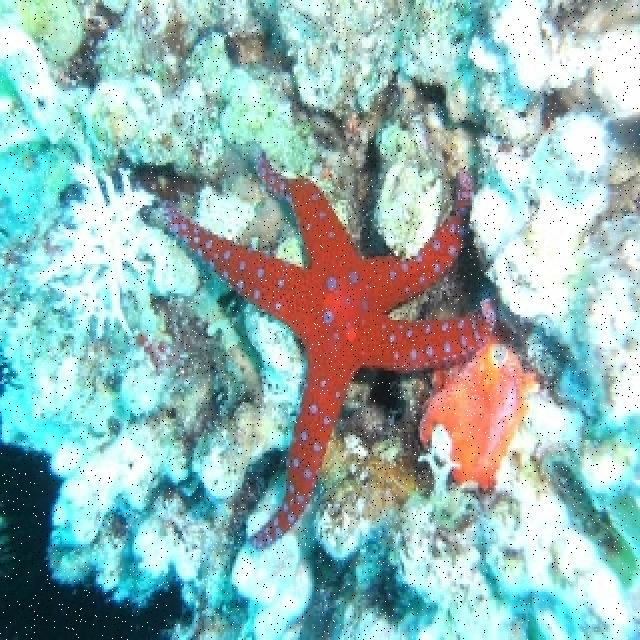reefs: (137, 150, 500, 551), (419, 335, 540, 491)
